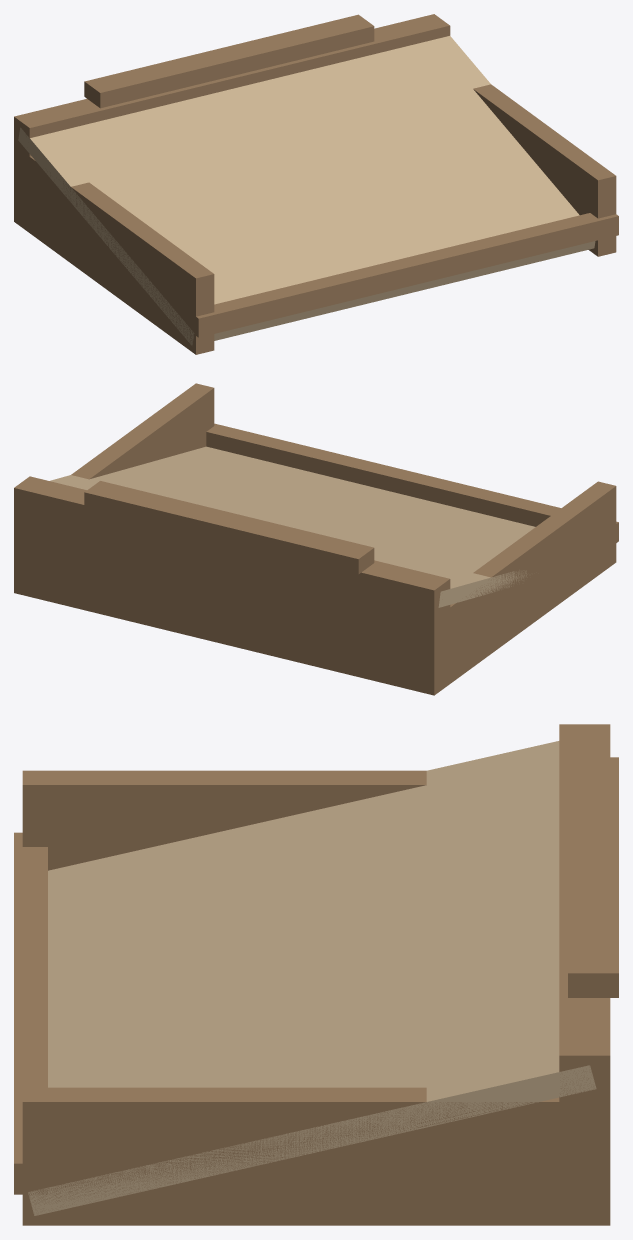
Rendered from prop-writing-slope.fbx.
The picture shows the model from 3 angles, top to bottom: view 1: azimuth 30°, elevation 25°; view 2: azimuth 150°, elevation 25°; view 3: azimuth 270°, elevation 25°; orthographic projection. The views are drawn at different scales.
Visible parts, largest first — view 1: prop-writing-slope; view 2: prop-writing-slope; view 3: prop-writing-slope.
Boxes of the visible parts, x1=… form: prop-writing-slope: x1=14, y1=14, x2=618, y2=354; prop-writing-slope: x1=14, y1=383, x2=618, y2=695; prop-writing-slope: x1=14, y1=724, x2=618, y2=1225.
Size of the model in its own units: 46 by 12.6 by 35.5.
